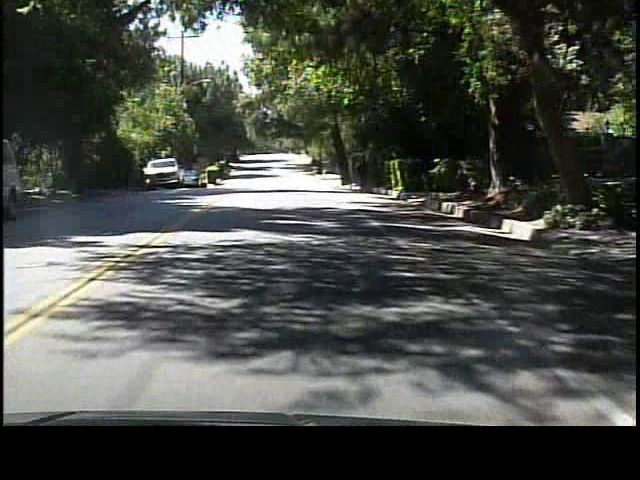person: (354, 154, 372, 193)
